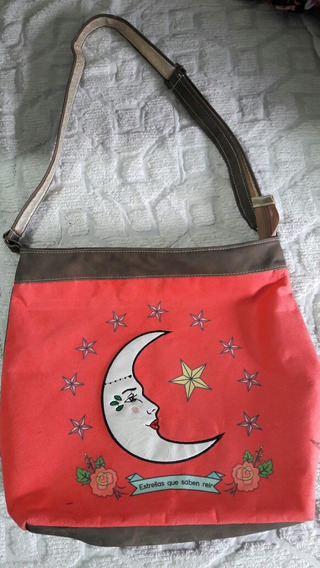cartera: (3, 13, 320, 546)
